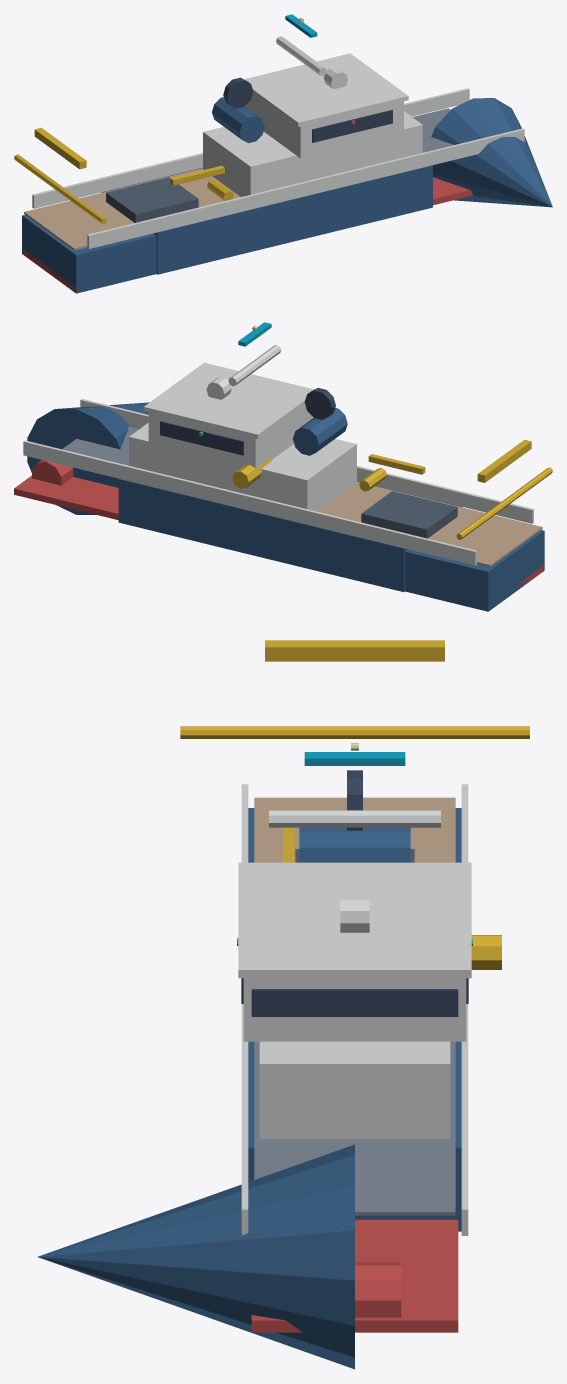
Rendered from gunnerus.glb.
3 views of the same model, one above another, from view 1: azimuth 30°, elevation 25°; view 2: azimuth 150°, elevation 25°; view 3: azimuth 270°, elevation 25° (orthographic). The views are drawn at different scales.
Visible parts, largest first — view 1: world; view 2: world; view 3: world.
Boxes of the visible parts, bbox=[...] form: world: bbox=[14, 14, 552, 293]; world: bbox=[14, 322, 552, 611]; world: bbox=[37, 640, 529, 1369].
Size of the model in its own units: 41.14 by 18.65 by 18.6.
